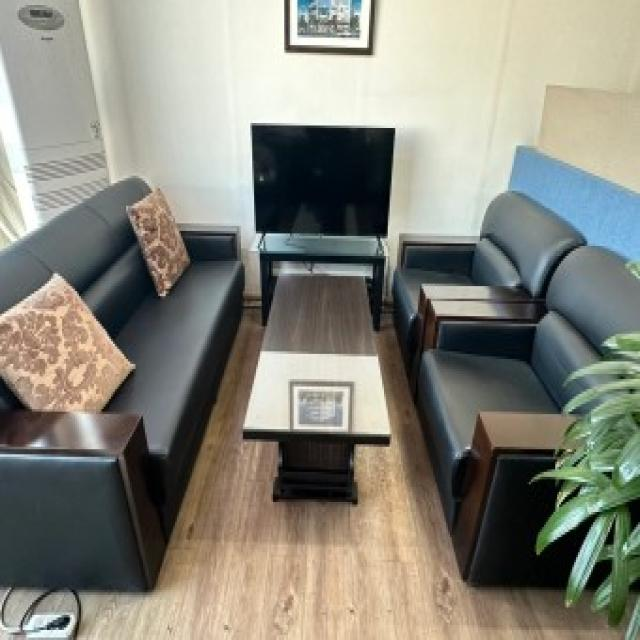Sofa: (2, 161, 242, 591), (400, 197, 634, 564)
Table: (245, 268, 395, 505)
tv: (250, 122, 398, 240)
